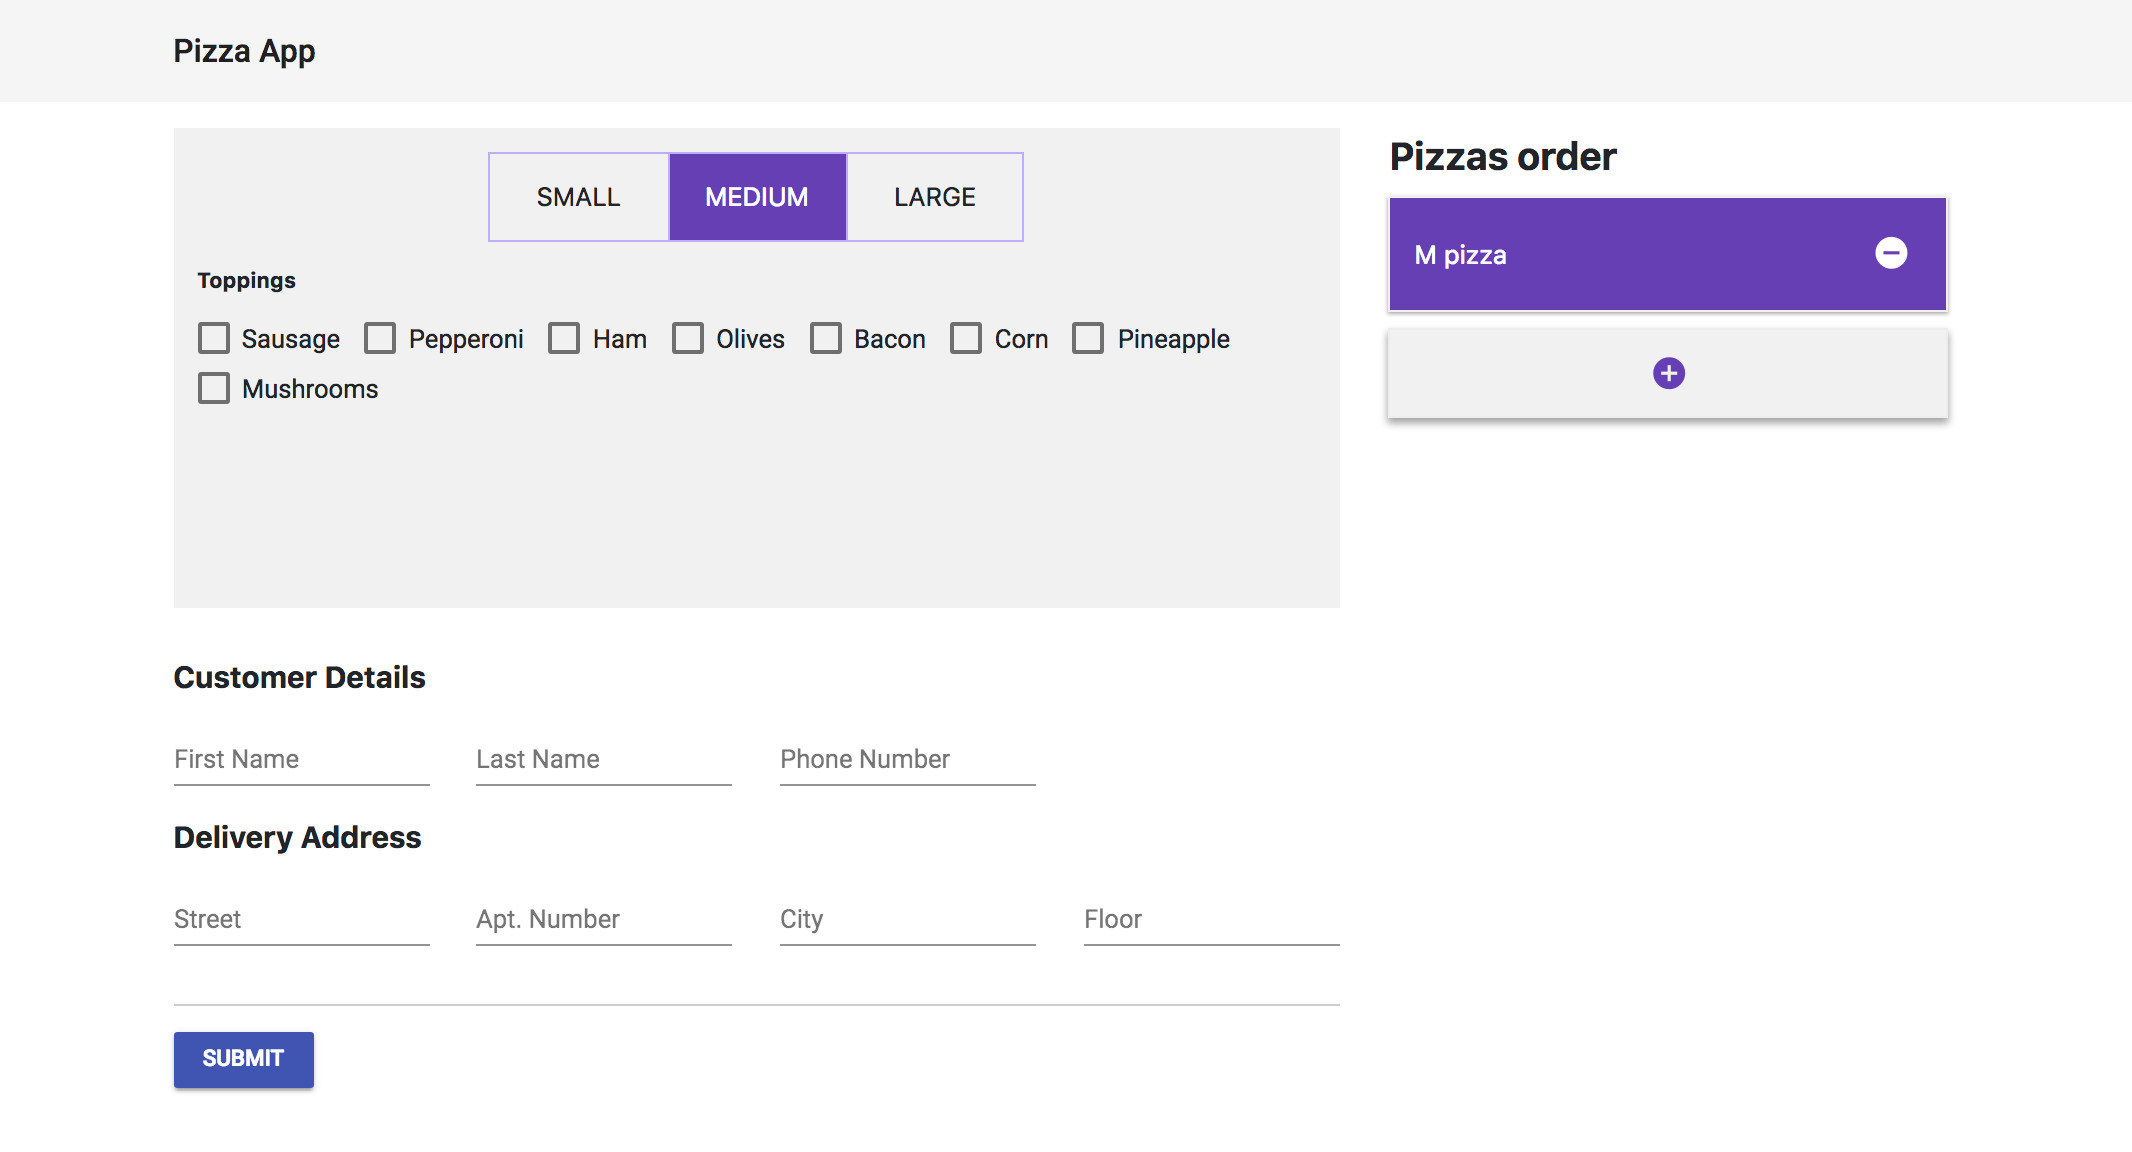_form_: (121, 699, 536, 1117), (396, 670, 813, 1085), (738, 641, 1155, 1057), (651, 99, 1067, 289), (451, 94, 867, 282)
button: (484, 150, 674, 244), (667, 150, 850, 244), (845, 152, 1023, 243), (170, 1029, 319, 1095)
checkbox: (196, 369, 235, 409), (668, 321, 711, 358), (1070, 321, 1112, 358), (194, 318, 235, 355), (543, 321, 586, 356), (360, 321, 401, 356), (809, 321, 850, 356), (949, 321, 987, 356)
checkbox_with_label: (189, 365, 382, 414), (355, 314, 528, 362), (189, 312, 348, 365), (1067, 316, 1231, 360), (803, 315, 928, 362), (664, 315, 784, 362), (536, 315, 653, 362), (943, 315, 1050, 359)
field: (167, 736, 434, 789), (470, 736, 733, 789), (1079, 899, 1345, 951), (167, 901, 435, 951), (470, 901, 736, 951), (774, 901, 1041, 951), (777, 738, 1038, 787)
